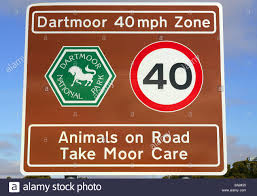Speed_limit_40km: (129, 40, 205, 114)
